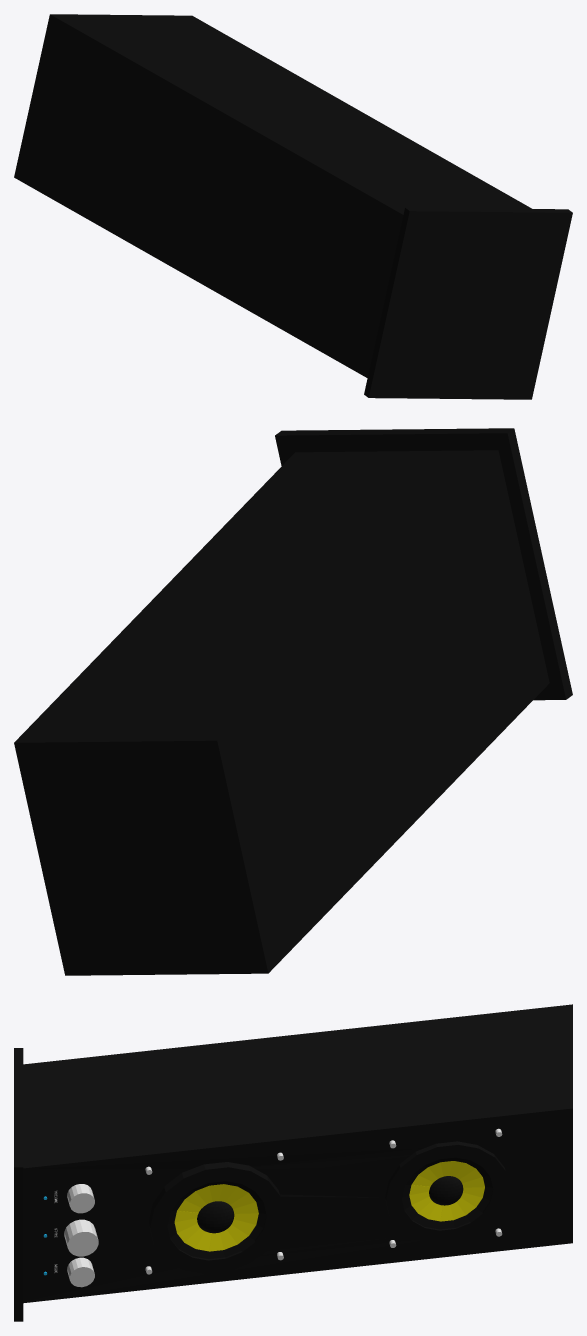
File: speaker.gltf
The picture shows the model from 3 angles, top to bottom: view 1: azimuth 30°, elevation 25°; view 2: azimuth 150°, elevation 25°; view 3: azimuth 270°, elevation 25°; orthographic projection. The views are drawn at different scales.
Bounding box in the file's own units: 16.2 × 12.72 × 29.01.
